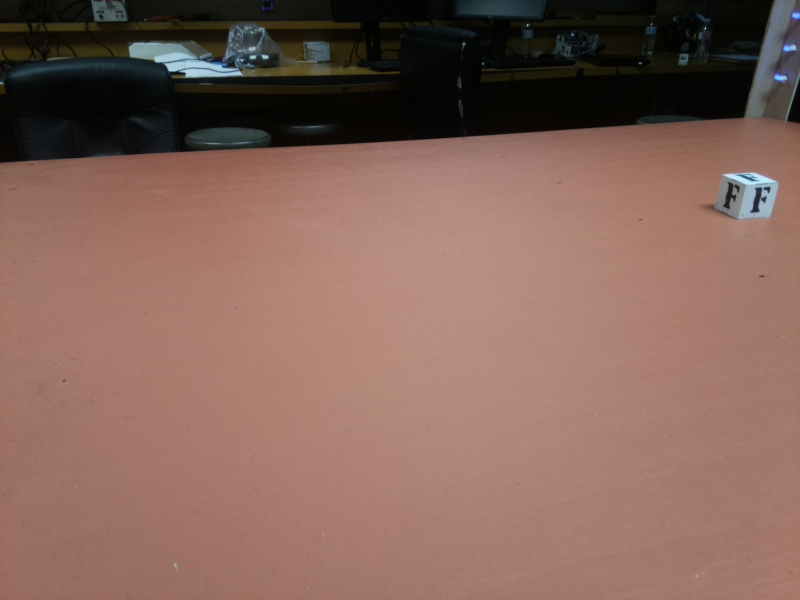blockF: (715, 171, 781, 221)
corner: (741, 1, 800, 120)
